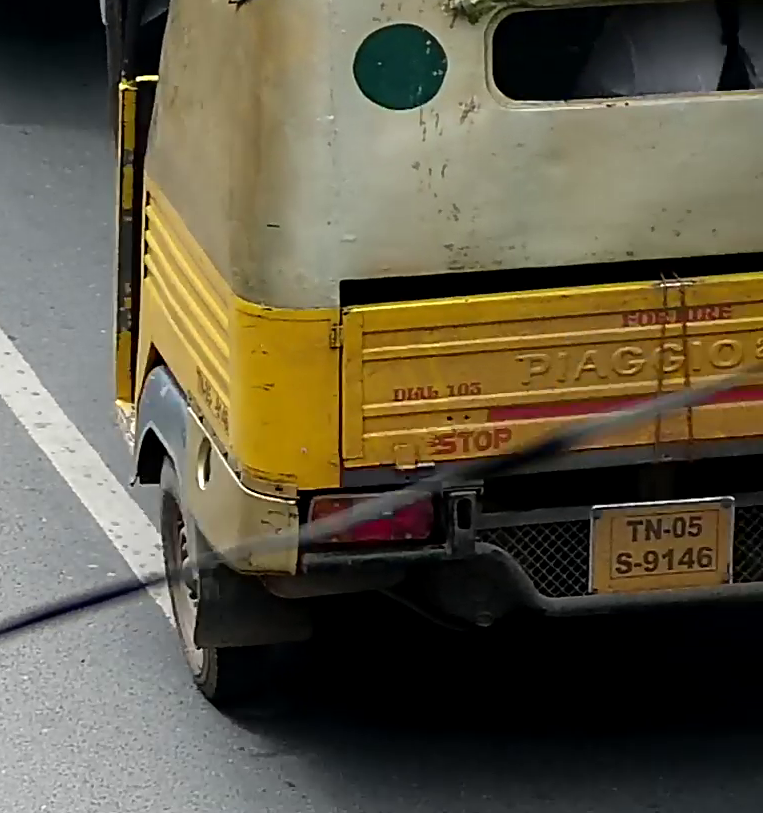-: (663, 529, 671, 534), (634, 562, 642, 567)
0: (672, 517, 686, 538)
1: (661, 547, 674, 571)
4: (677, 547, 695, 569)
5: (687, 515, 703, 537)
6: (696, 546, 713, 568)
9: (643, 550, 659, 573)
N: (644, 518, 662, 542)
P10: (586, 495, 736, 599)
S: (615, 552, 633, 574)
T: (626, 520, 643, 542)
